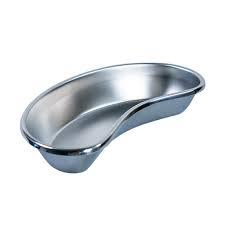Kidney Tray: (18, 61, 205, 176)
